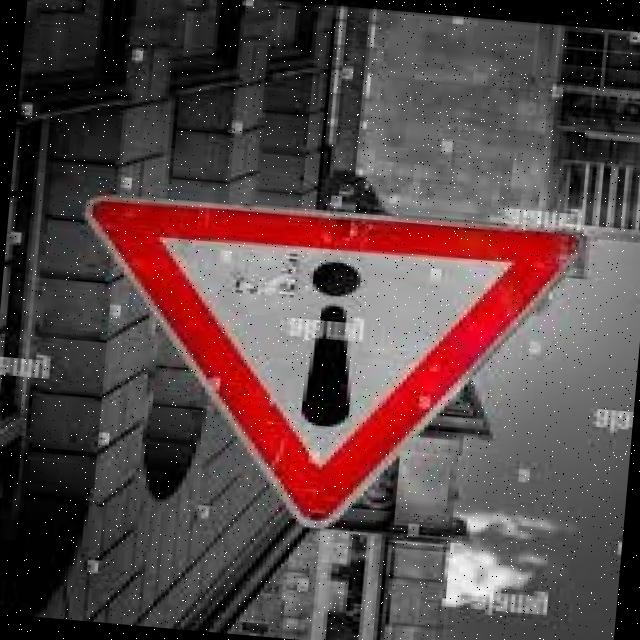warning: (53, 172, 610, 556)
